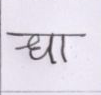aa_matra: (62, 36, 66, 63)
